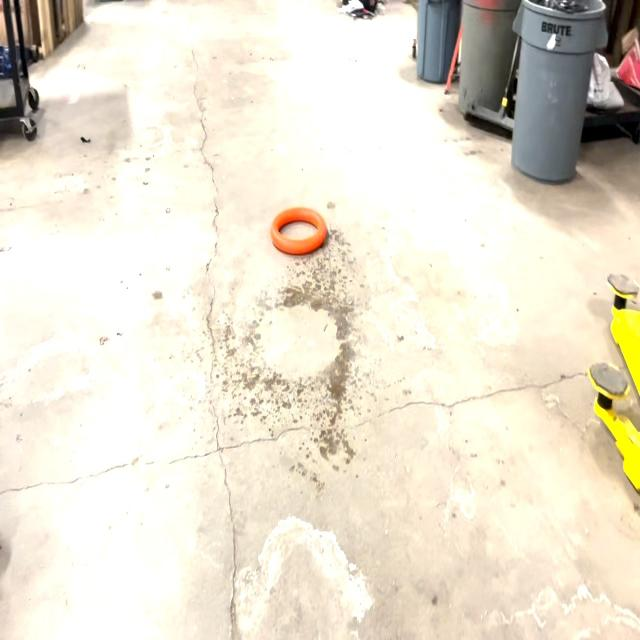note: (267, 201, 331, 259)
